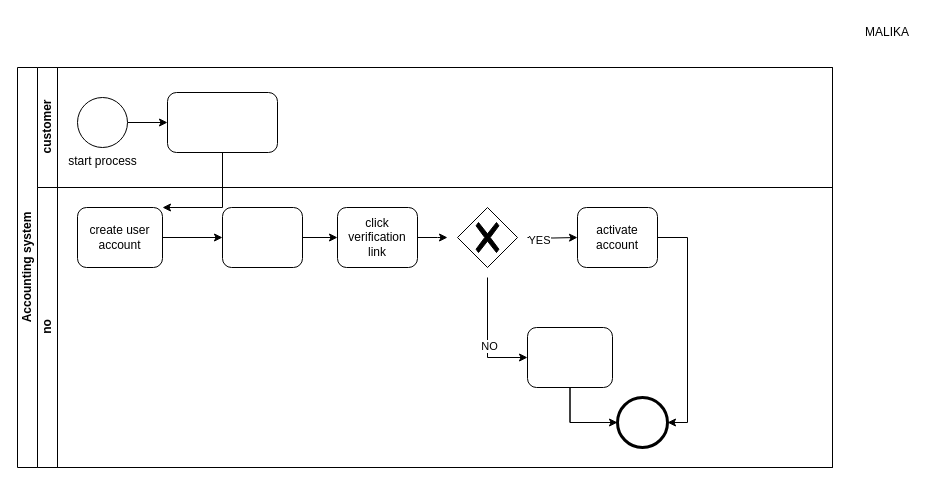
Some shapes in this 935 by 485 pixel diagram are drawn without their labels. The centre of each missing label's shape, as x and y in pixels:
email verified?: point (487, 237)
enter sign-up information: point (222, 122)
resend verification email: point (569, 357)
send verification email: point (262, 237)
